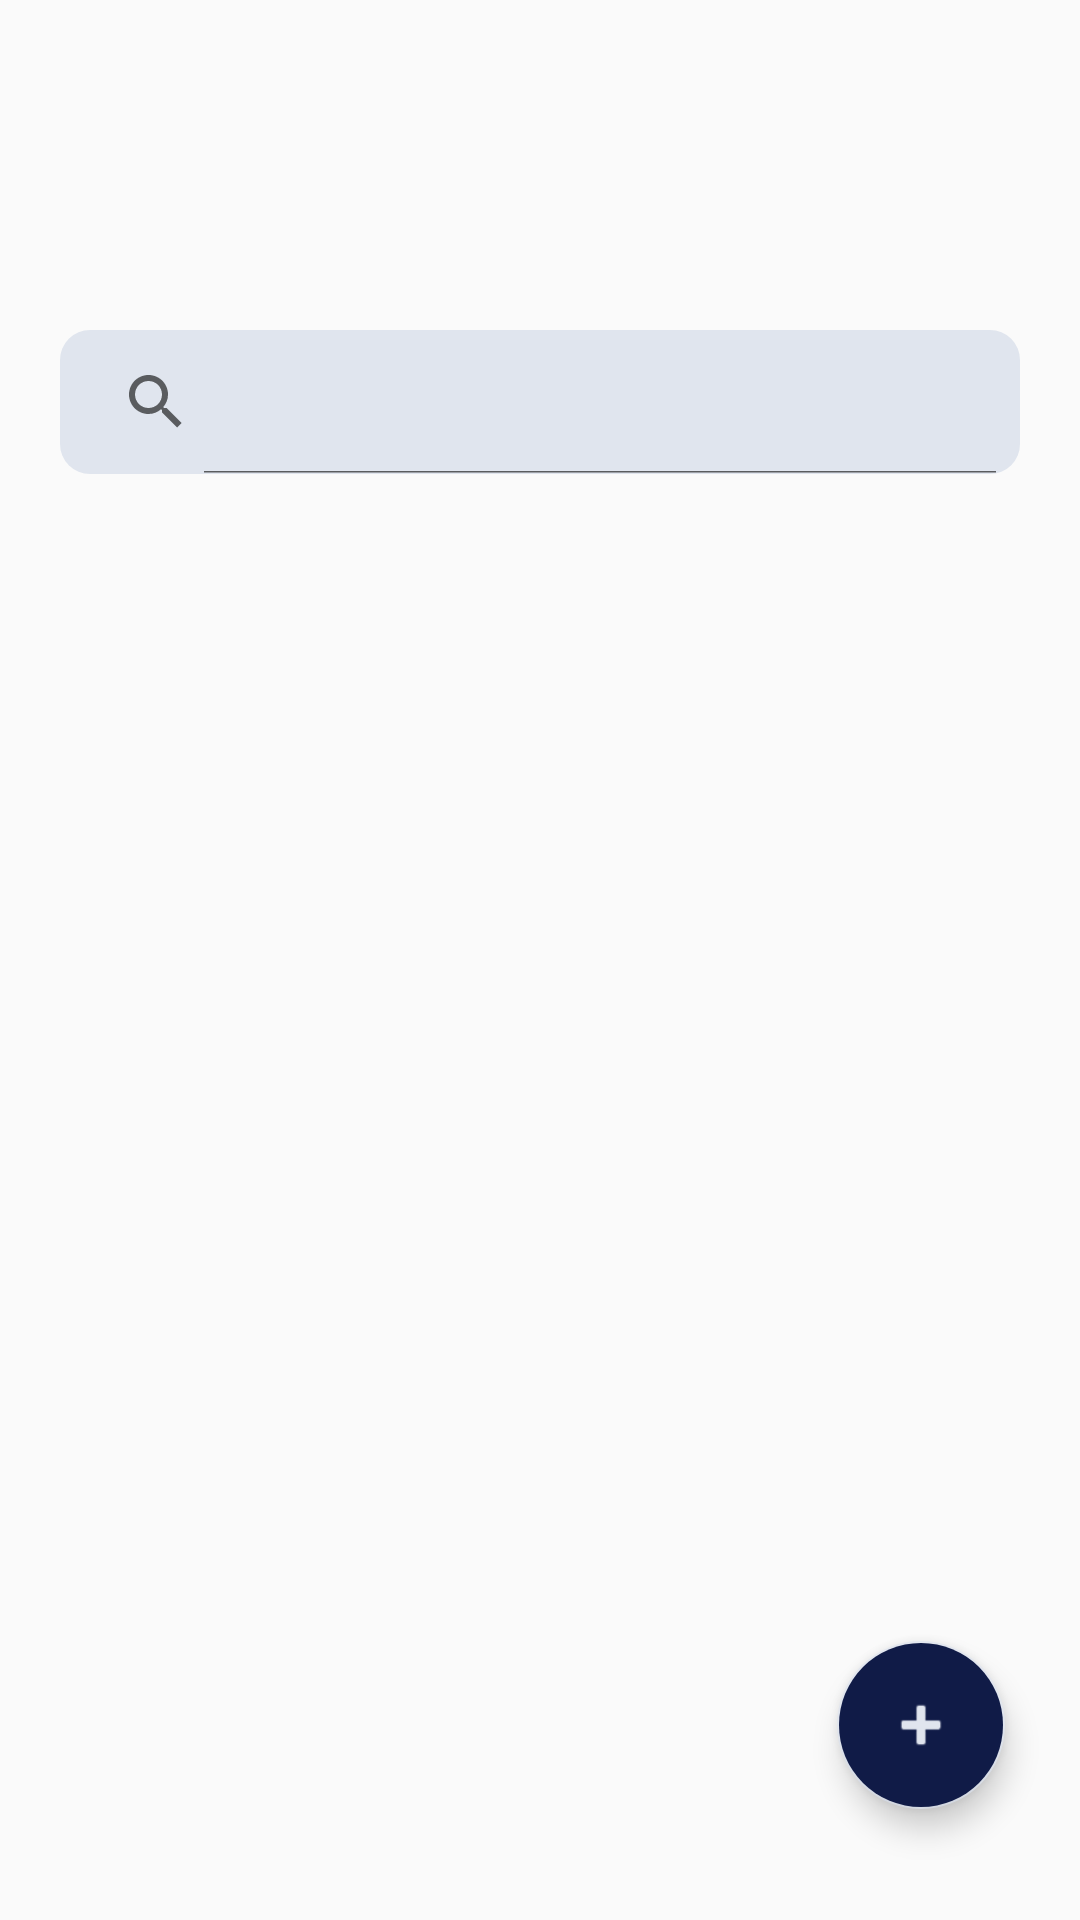

Where to tap for icons on this 1080x1920 app screen, as (x,y):
add: (921,1726)
